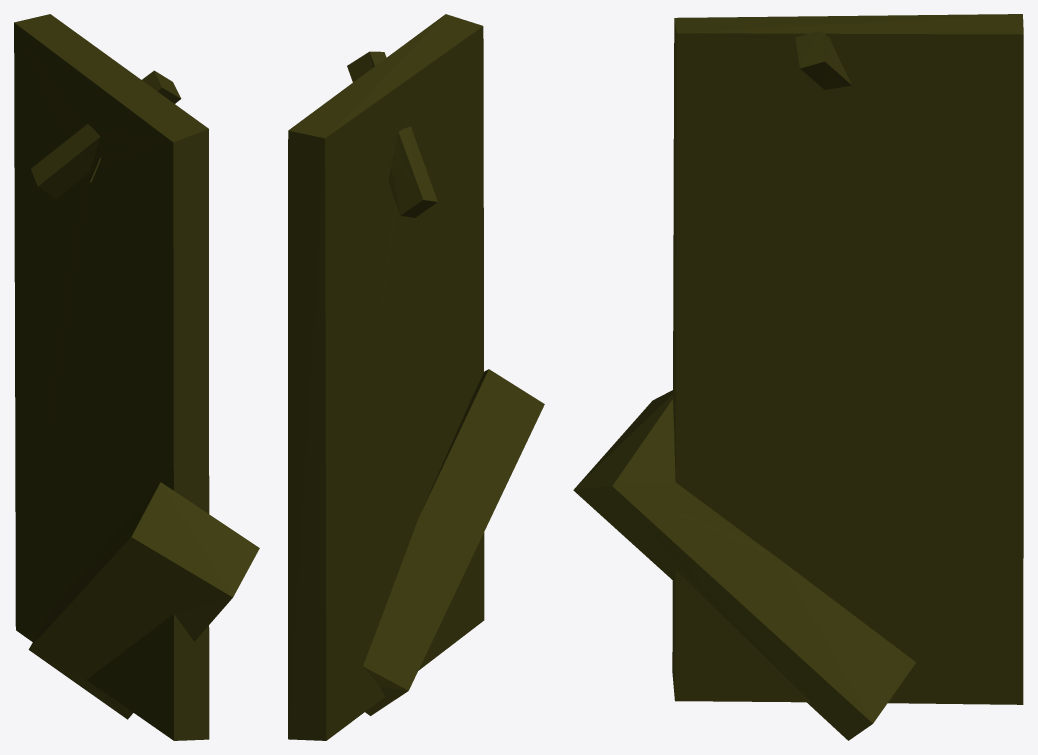
3 views of the same model, side by side, from view 1: azimuth 30°, elevation 25°; view 2: azimuth 150°, elevation 25°; view 3: azimuth 270°, elevation 25° (orthographic). The views are drawn at different scales.
Parts seen in each view (by area): view 1: 201_Cube.834; view 2: 201_Cube.834; view 3: 201_Cube.834.
Boxes of the visible parts, left/top/right/bottom form: 201_Cube.834: left=14, top=14, right=259, bottom=740; 201_Cube.834: left=288, top=14, right=544, bottom=740; 201_Cube.834: left=573, top=14, right=1023, bottom=740.
Bounding box in the file's own units: 2.69 × 12.85 × 7.31.
